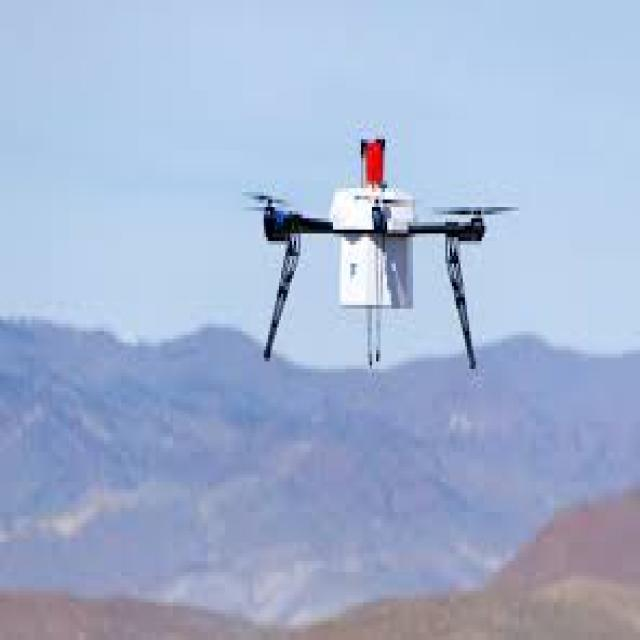drones: (237, 133, 518, 372)
